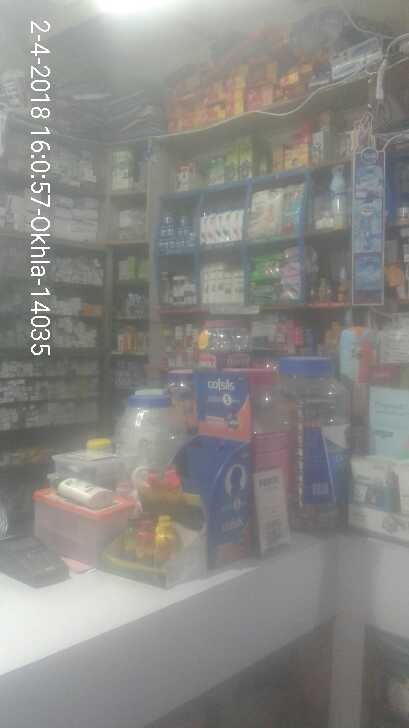vicks: (157, 209, 198, 248)
